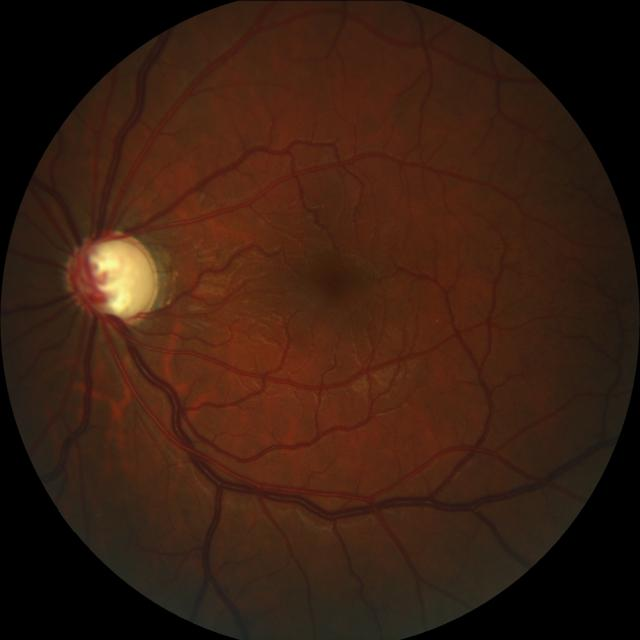OC: (84, 237, 154, 316)
OD: (70, 230, 161, 323)
